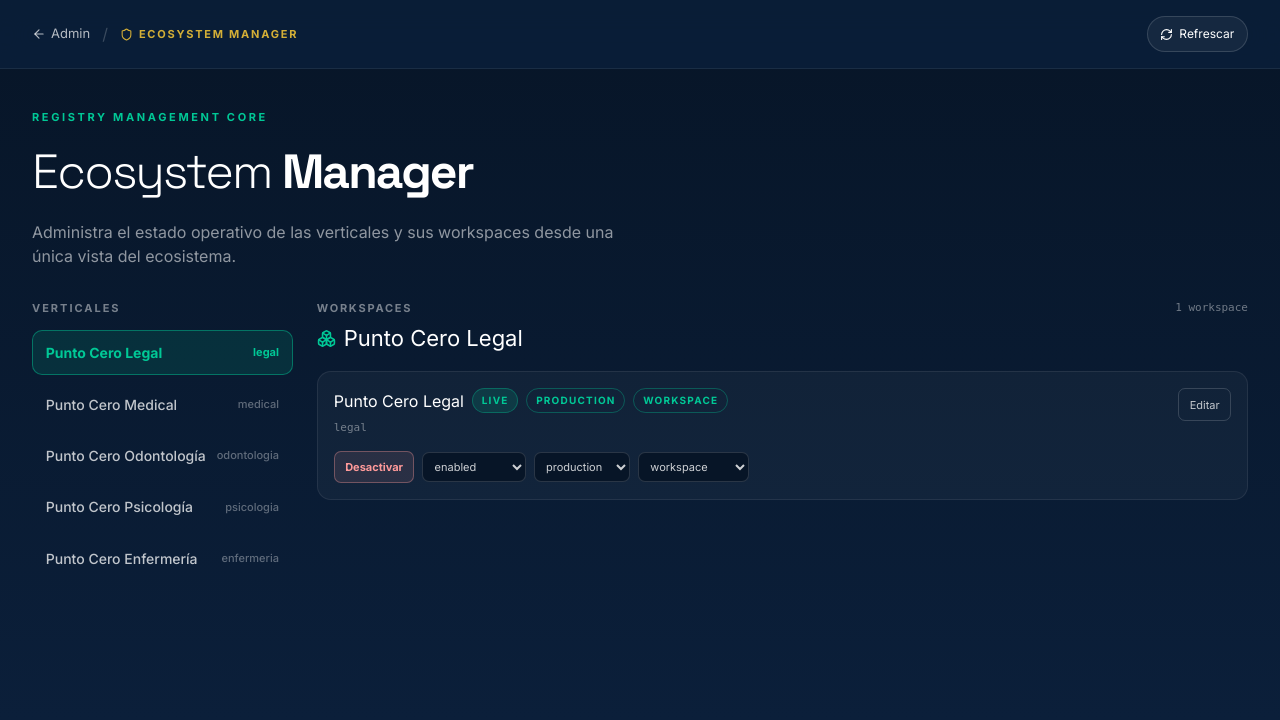
Scenario: EcosystemManager › cambia de vertical y muestra sus workspaces
The width and height of the screenshot is (1280, 720).
Click the button with test id "vertical-medical" at (162, 404), box [32,381,293,427]
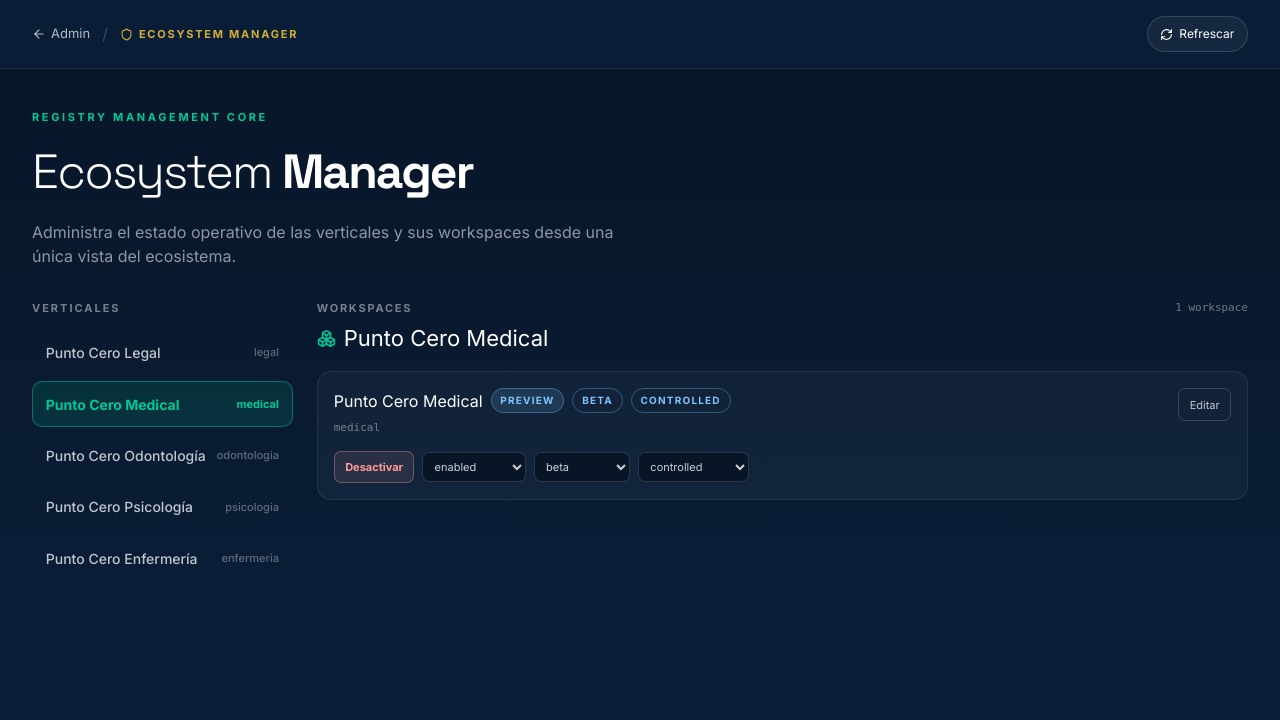
Check: the element with test id "workspace-row-medical" is shown, box [317,371,1248,500]
Check: the text "PREVIEW" is shown, box [490,388,564,413]
Check: the text "BETA" is shown, box [572,388,623,413]
